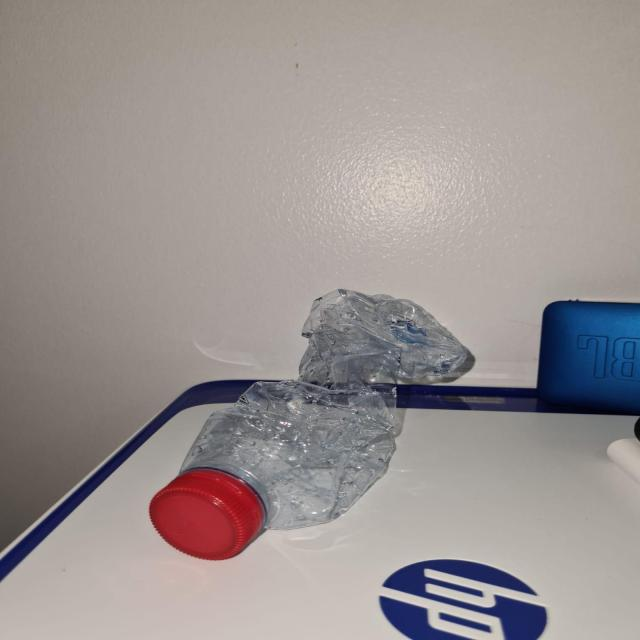bottle: (153, 292, 477, 558)
